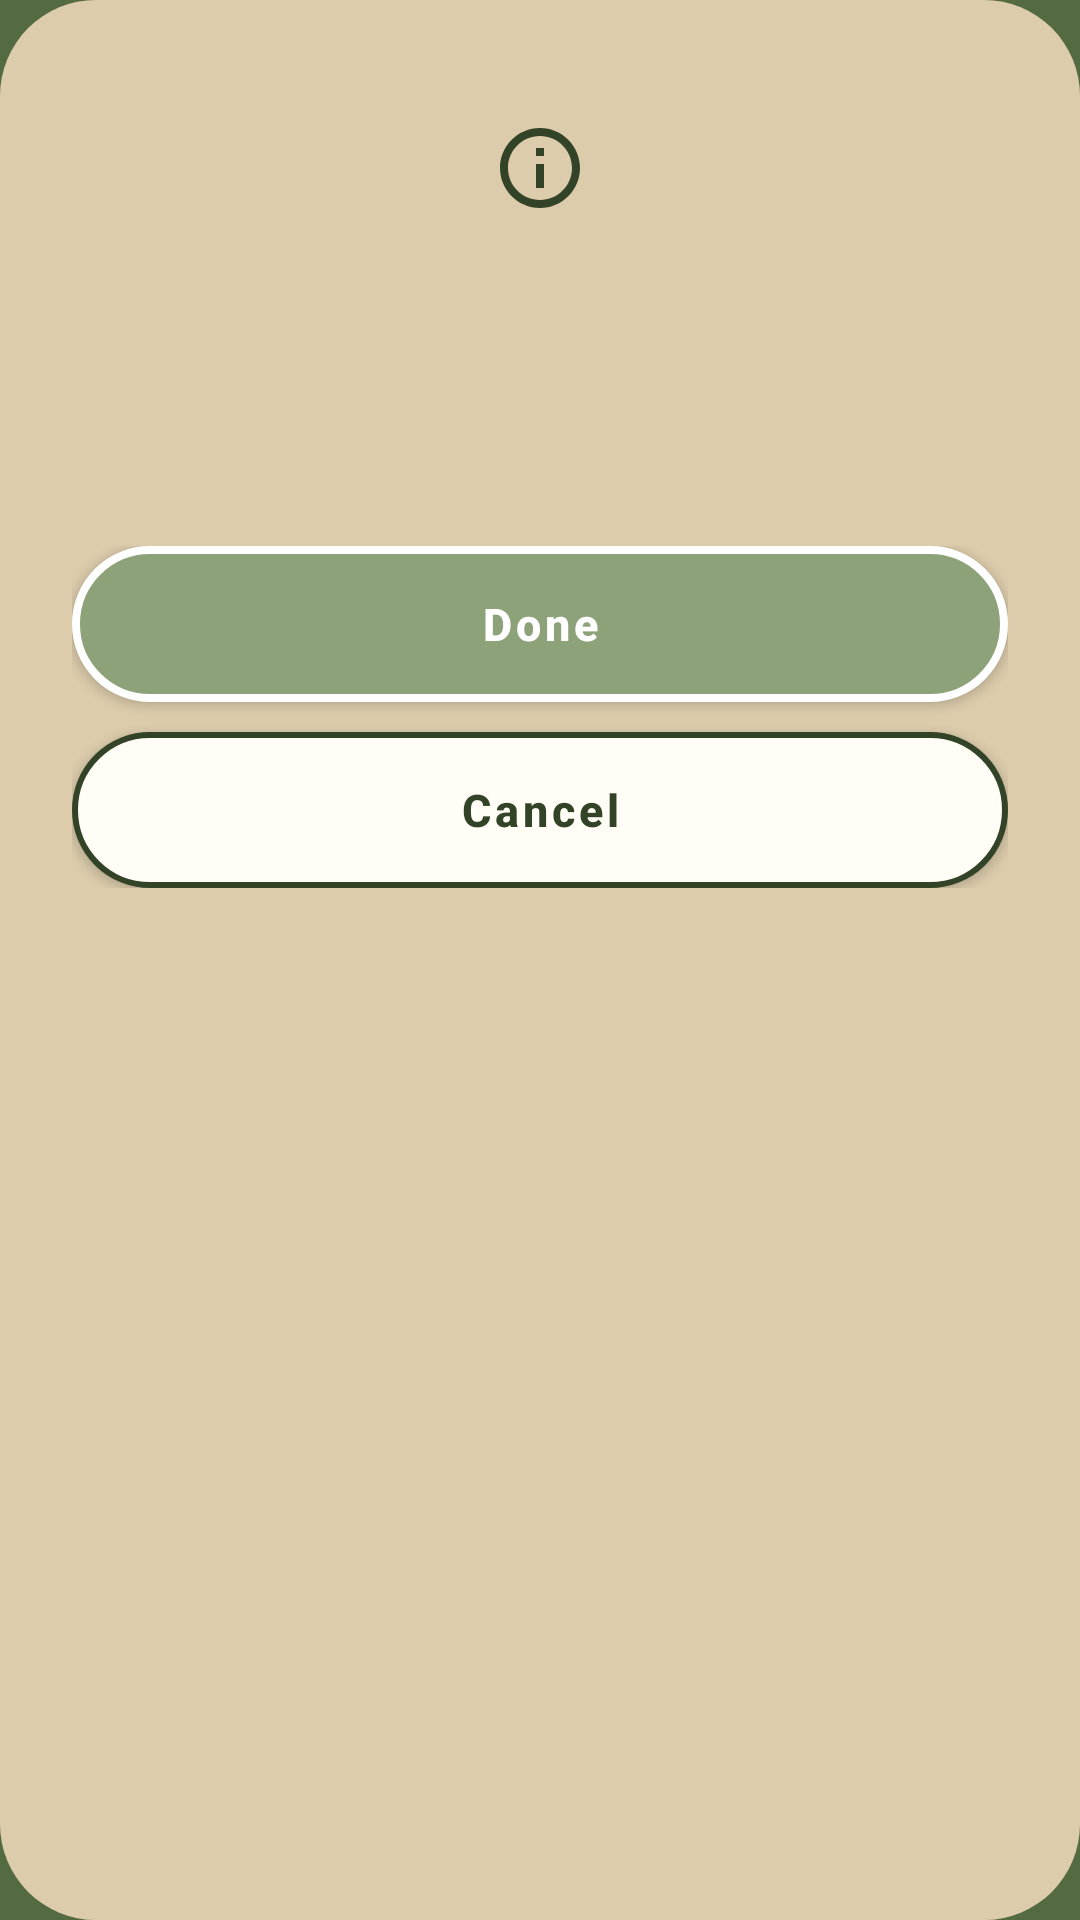

Icons on this 1080px×1920px Android screen, each with its box as [left=x1, top=y1, right=x2, bottom=y2]:
info circle: [left=500, top=128, right=580, bottom=208]
